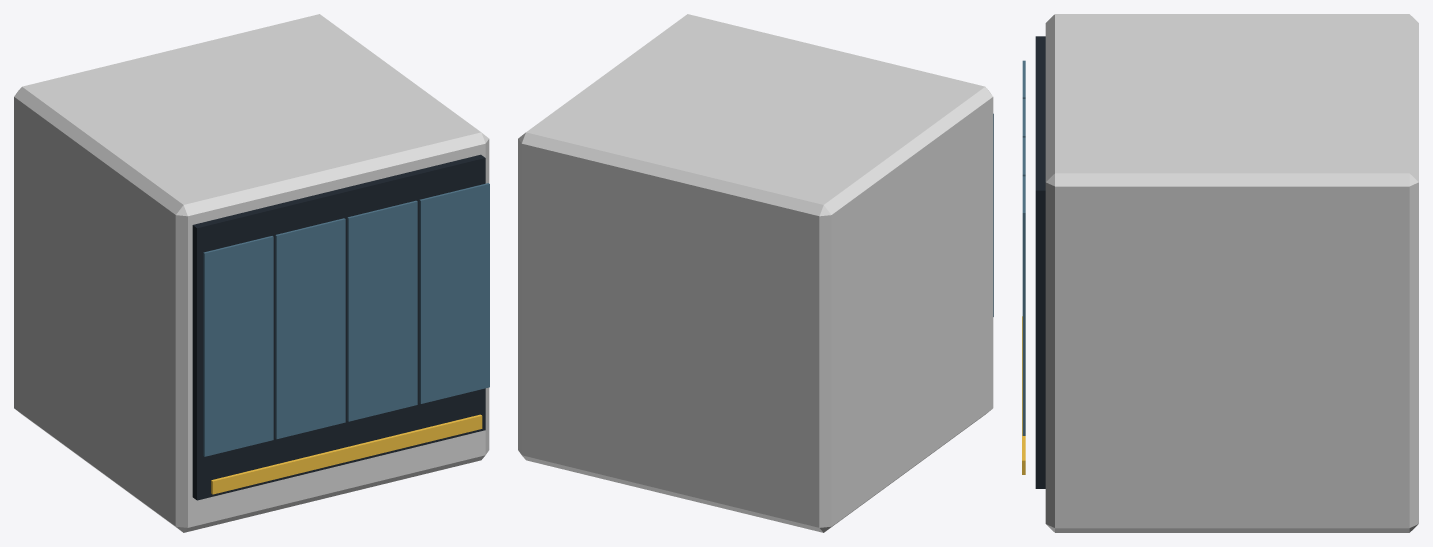
File: desk-panel.glb
3 renders of one model, left to right at view 1: azimuth 30°, elevation 25°; view 2: azimuth 150°, elevation 25°; view 3: azimuth 270°, elevation 25°, orthographic. The views are drawn at different scales.
Parts seen in each view (by area): view 1: beret/panel-unit; view 2: beret/panel-unit; view 3: beret/panel-unit.
Part boxes in pixels (x1,y1,x2,y2): beret/panel-unit: (14,14,489,532); beret/panel-unit: (518,14,993,532); beret/panel-unit: (1022,14,1418,532).
Bounding box in the file's own units: 1 × 1 × 1.
